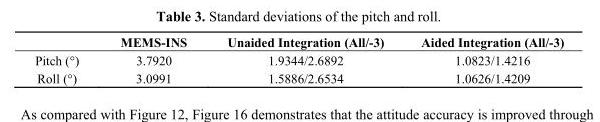table: (34, 34, 563, 84)
table column: (206, 34, 401, 84), (401, 34, 563, 84), (98, 34, 206, 84), (34, 34, 98, 84)
table column header: (34, 34, 563, 50)
table row: (34, 50, 563, 68), (34, 34, 563, 50), (34, 68, 563, 84)
